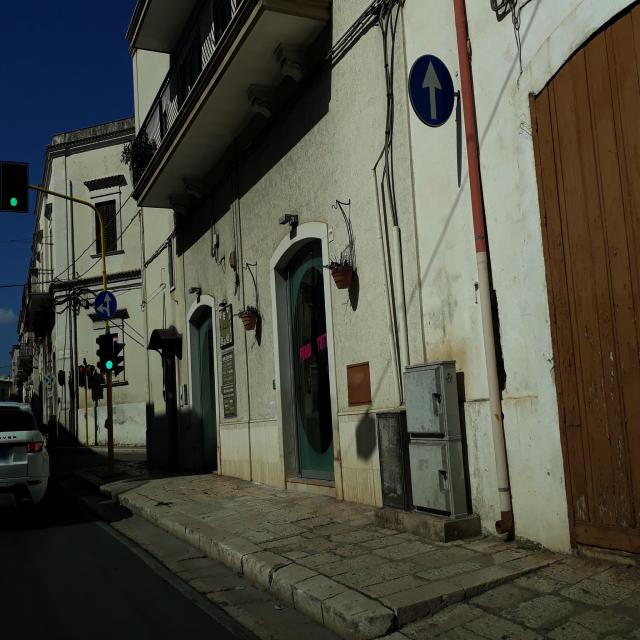car: (0, 398, 51, 530), (37, 422, 50, 450)
